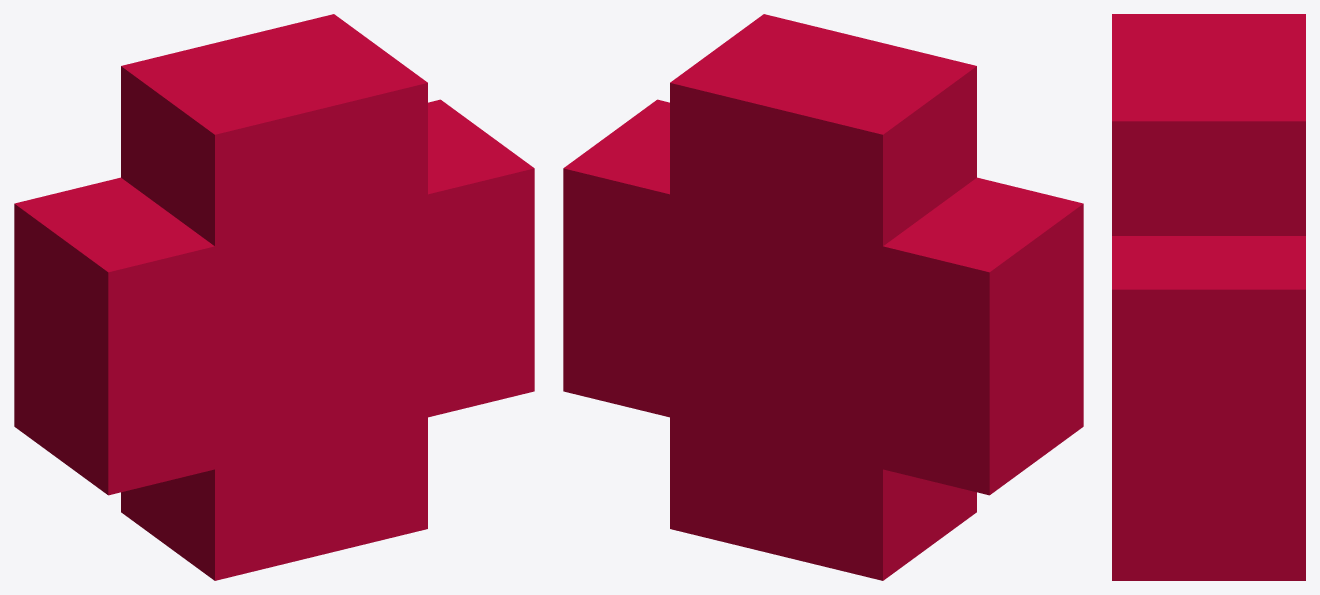
File: redCrossPowerUp.fbx
3 renders of one model, left to right at view 1: azimuth 30°, elevation 25°; view 2: azimuth 150°, elevation 25°; view 3: azimuth 270°, elevation 25°, orthographic. The views are drawn at different scales.
Visible parts, largest first — view 1: redCrossPowerUp; view 2: redCrossPowerUp; view 3: redCrossPowerUp.
Part boxes in pixels (box(x1,y1,x2,y2)): redCrossPowerUp: box(14, 14, 534, 580); redCrossPowerUp: box(563, 14, 1083, 580); redCrossPowerUp: box(1112, 14, 1305, 580).
Size of the model in its own units: 200 by 200 by 76.39.
